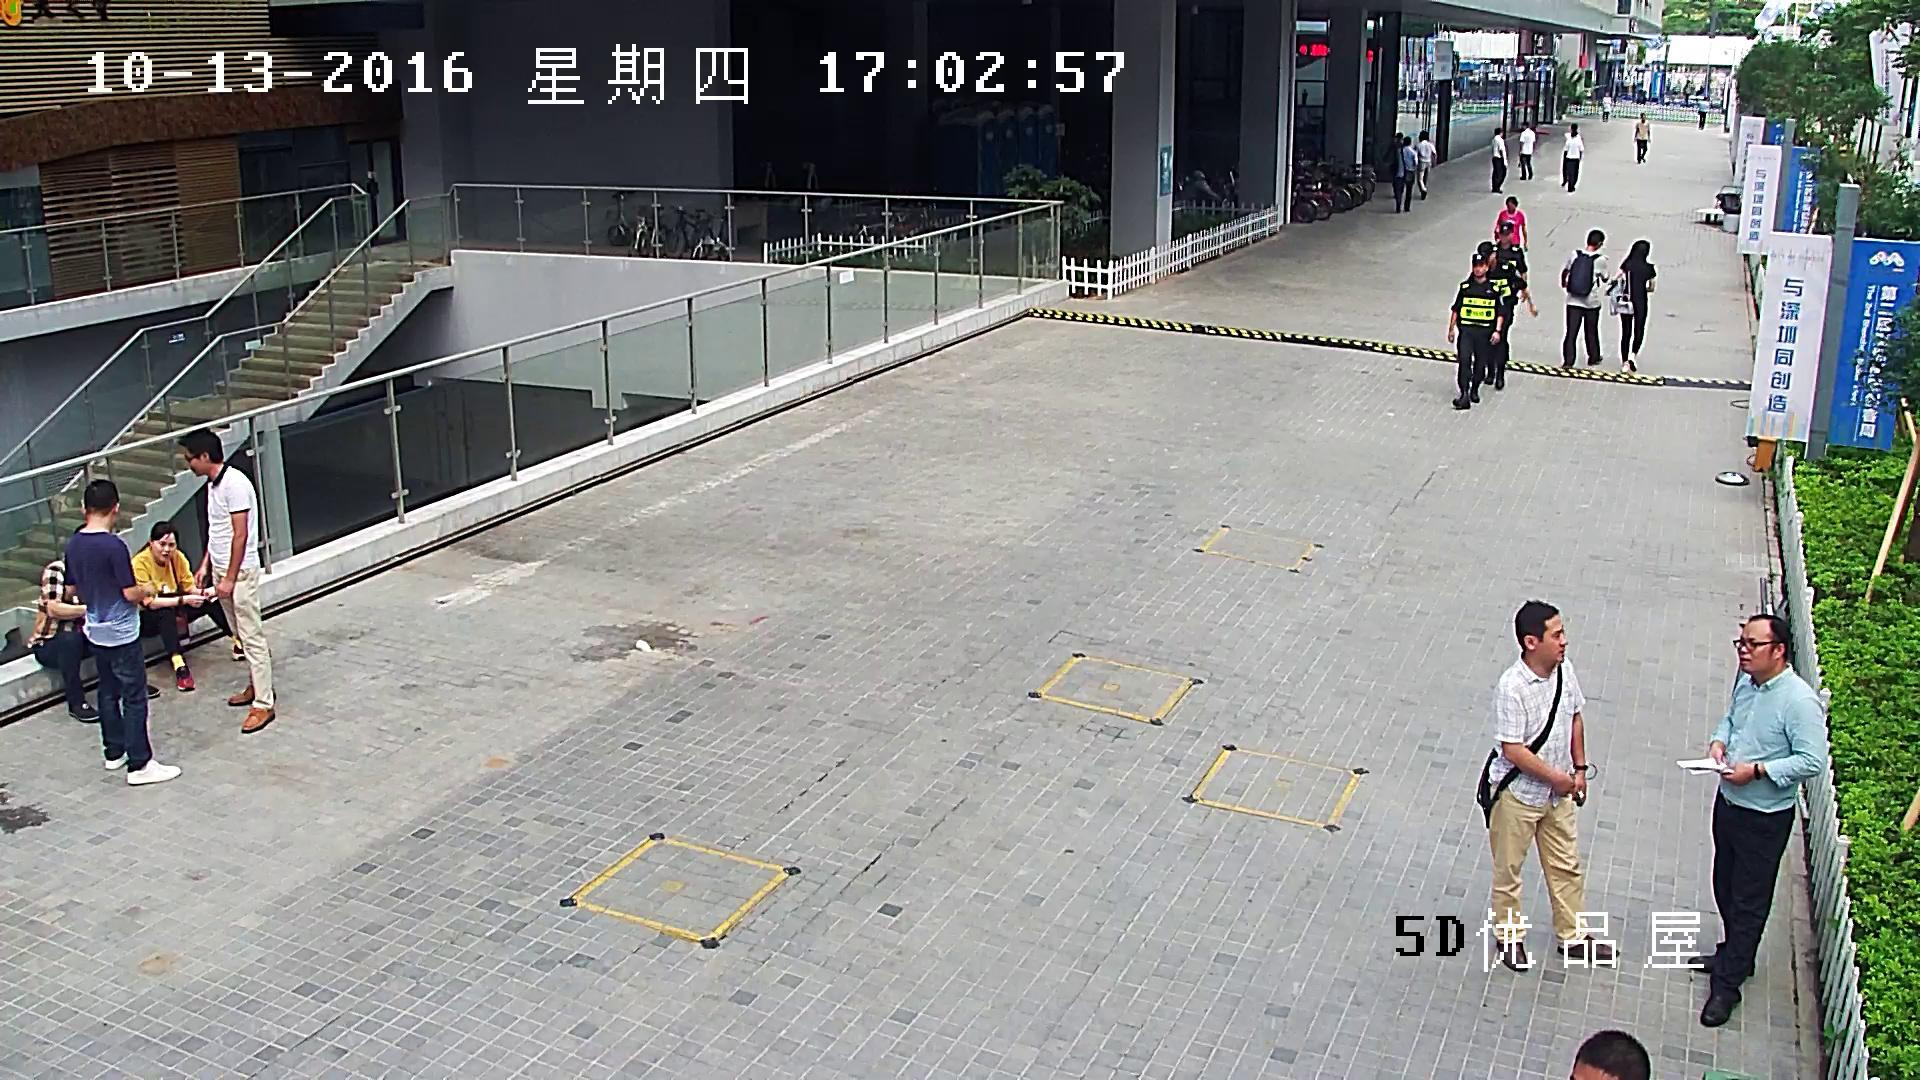person: (1675, 613, 1826, 1026), (1477, 601, 1619, 971), (64, 479, 181, 785), (177, 428, 275, 732), (27, 522, 160, 722), (131, 521, 269, 691), (1478, 241, 1537, 389), (1447, 254, 1503, 407), (1603, 240, 1655, 374), (1561, 230, 1610, 370), (1492, 221, 1527, 305), (1494, 196, 1527, 250), (1395, 136, 1417, 213), (1415, 130, 1436, 200), (1383, 132, 1403, 198), (1562, 129, 1583, 192), (1560, 122, 1578, 186), (1491, 127, 1507, 193), (1518, 121, 1535, 179), (1633, 112, 1650, 163), (1601, 91, 1611, 122), (1698, 96, 1708, 129)
